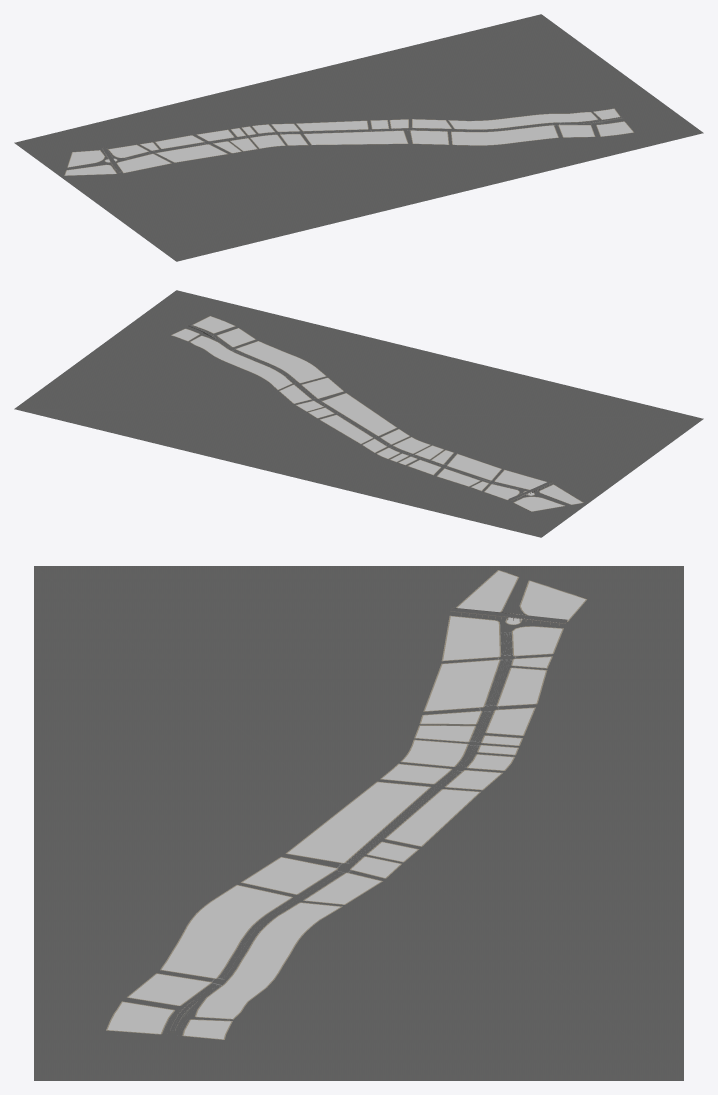
The model's file is Road.FBX.
The picture shows the model from 3 angles, top to bottom: view 1: azimuth 30°, elevation 25°; view 2: azimuth 150°, elevation 25°; view 3: azimuth 270°, elevation 25°; orthographic projection. The views are drawn at different scales.
Visible parts, largest first — view 1: road_001, road_002, road_003; view 2: road_001, road_002, road_003; view 3: road_001, road_002, road_003.
Part boxes in pixels (x1,y1,x2,y2): road_001: (14, 14, 703, 261); road_002: (65, 109, 632, 175); road_003: (64, 108, 633, 175); road_001: (14, 290, 703, 537); road_002: (172, 316, 582, 511); road_003: (171, 316, 583, 511); road_001: (34, 566, 683, 1080); road_002: (107, 571, 585, 1039); road_003: (106, 570, 586, 1039).
Bounding box in the file's own units: 3132888 × 15911 × 1671863.
